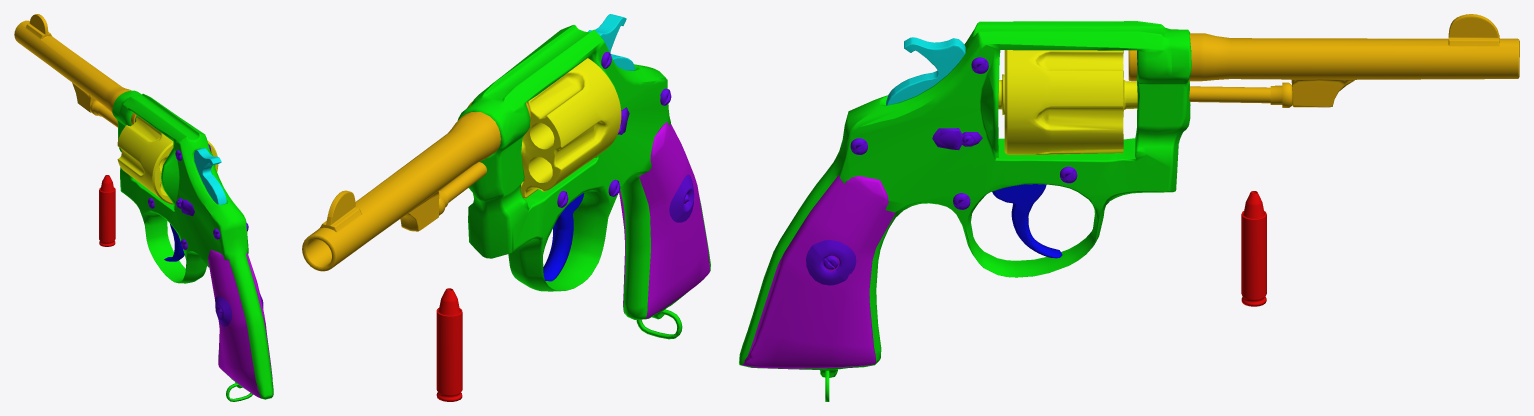
Rendered from 2 expo.fbx.
3 views of the same model, side by side, from view 1: azimuth 30°, elevation 25°; view 2: azimuth 150°, elevation 25°; view 3: azimuth 270°, elevation 25° (orthographic). The views are drawn at different scales.
Parts seen in each view (by area): view 1: polySurface65; view 2: polySurface65; view 3: polySurface65.
Boxes of the visible parts, box(x1,y1,x2,y2) form: polySurface65: box(14, 14, 273, 401); polySurface65: box(302, 14, 710, 401); polySurface65: box(739, 14, 1519, 401).
Size of the model in its own units: 2.28 by 7.83 by 14.51.
